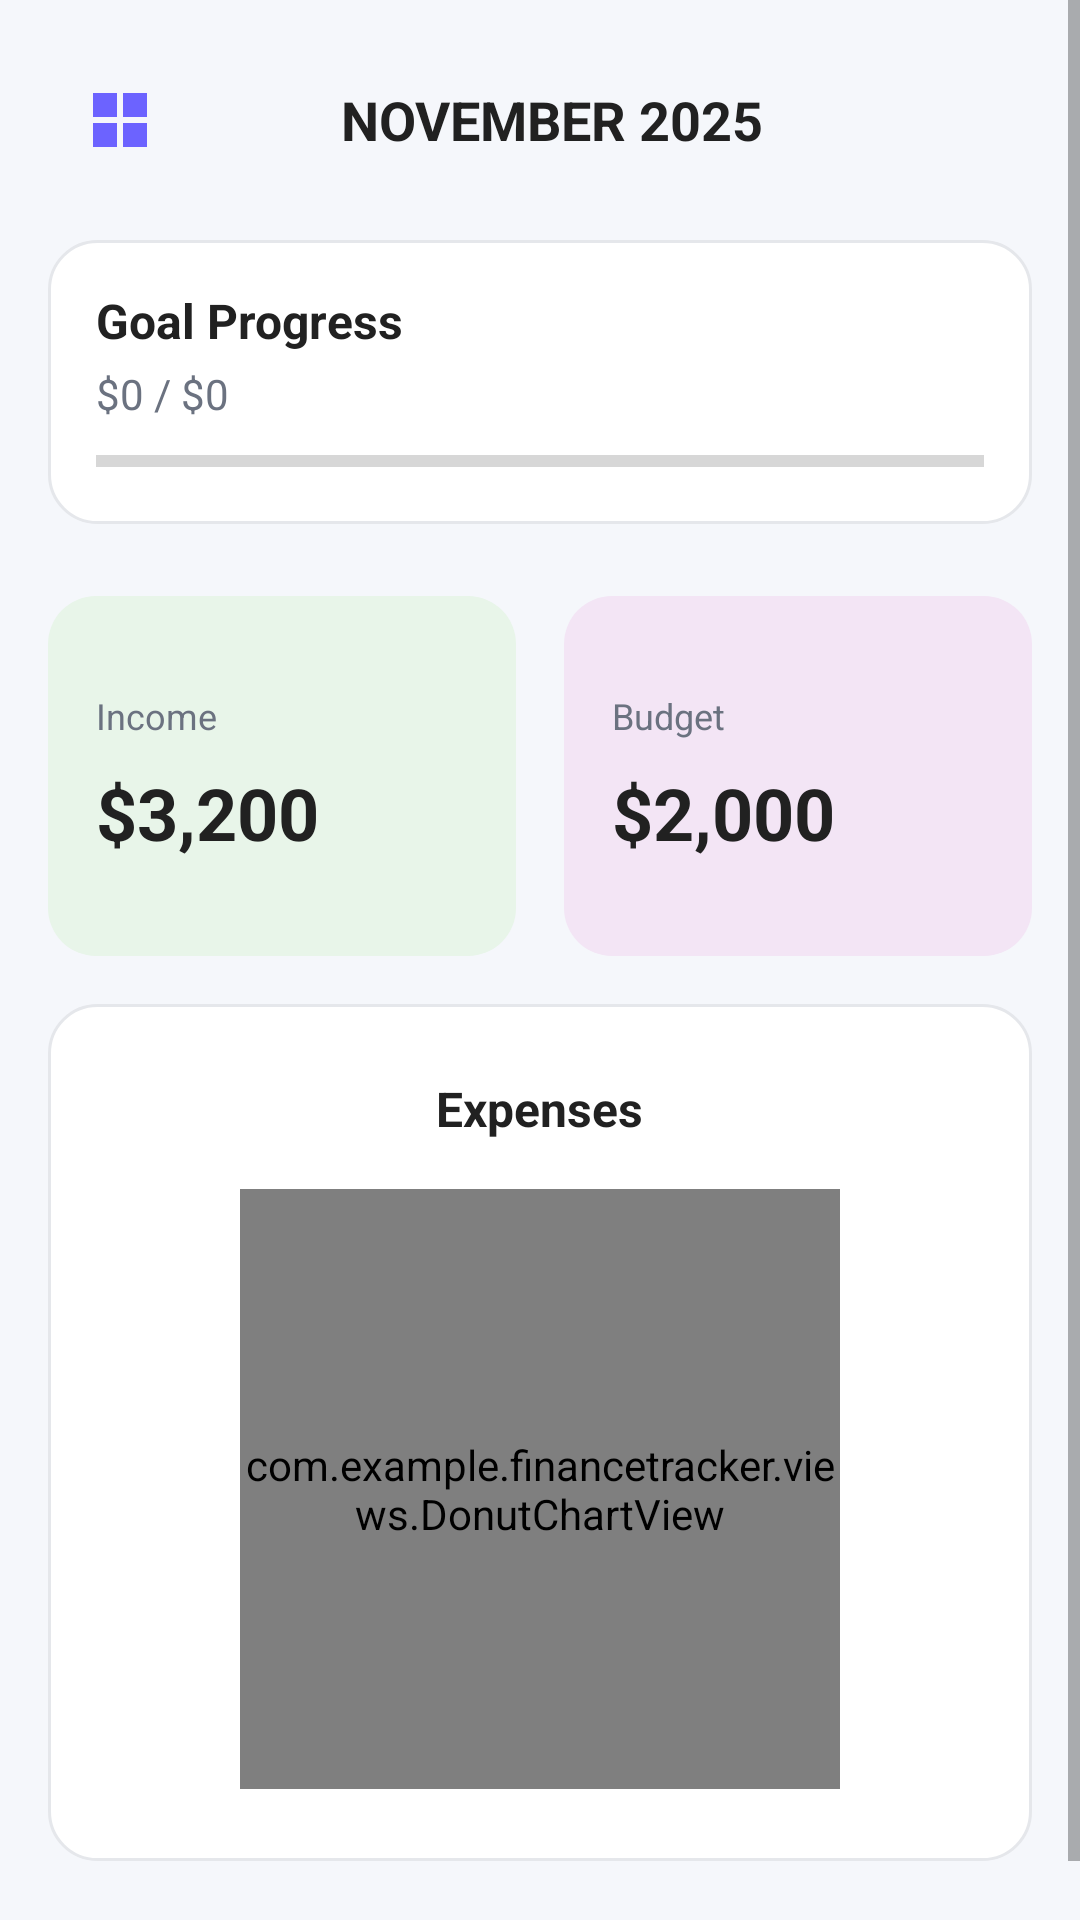

Named icons in this screenshot (1080×1920) and their bounding boxes, [x1, y1, x2, y2]:
Menu: [93, 93, 147, 147]
